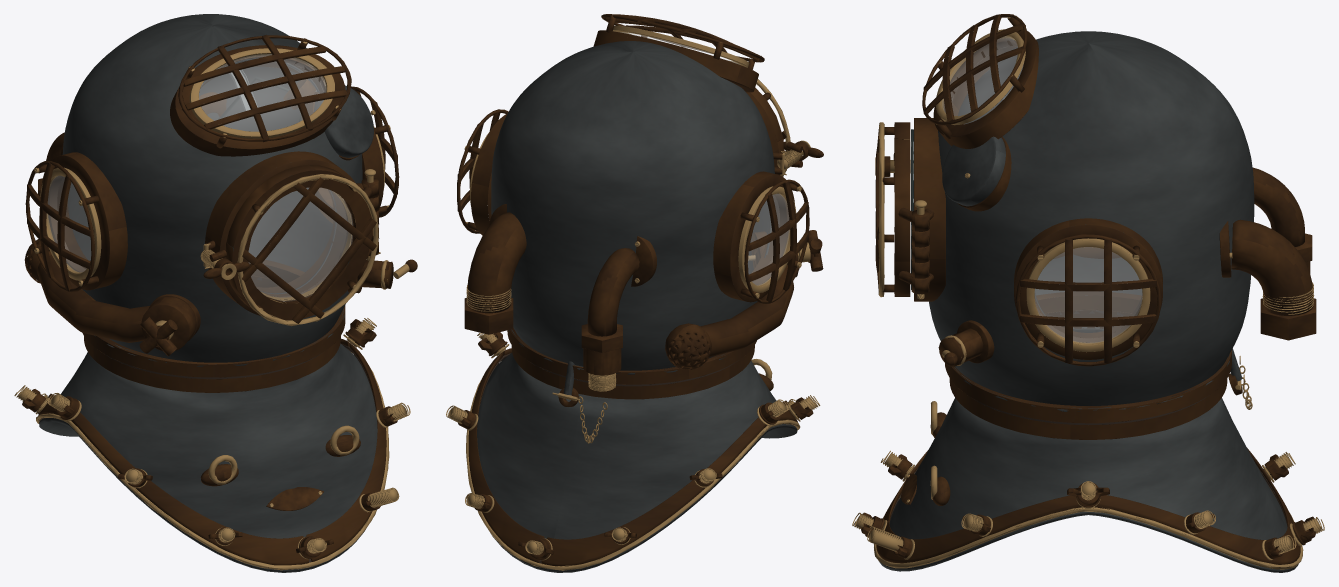
File: mark-v-context.glb
The picture shows the model from 3 angles, left to right: view 1: azimuth 30°, elevation 25°; view 2: azimuth 150°, elevation 25°; view 3: azimuth 270°, elevation 25°; orthographic projection. The views are drawn at different scales.
Parts seen in each view (by area): view 1: Bonnet_HollowCopper_TinFinish, Corselet_CopperSaddle_WithUnderside, FrontGlass_12point7mm_SpecimenApproximation, Door_CastFrame, FrontSeat_CastFrame, SideSeat_-1, TopGlass, UpperNeckRing_Female_Approximate, TopSeat, Brail_03_CurvedClampingStrap, LowerNeckRing_NominalOpening, BananaExhaust_Hollow_SectionApproximate (+27 smaller); view 2: Bonnet_HollowCopper_TinFinish, Corselet_CopperSaddle_WithUnderside, SideSeat_-1, TelephoneGooseneck_HollowCast, Brail_02_CurvedClampingStrap, BananaExhaust_Hollow_SectionApproximate, LowerNeckRing_NominalOpening, UpperNeckRing_Female_Approximate, AirGooseneck_HollowCast, Brail_01_CurvedClampingStrap, Corselet_RolledOuterEdge, TopSeat (+19 smaller); view 3: Bonnet_HollowCopper_TinFinish, Corselet_CopperSaddle_WithUnderside, UpperNeckRing_Female_Approximate, SideGlass_1, SideSeat_1, TelephoneGooseneck_HollowCast, LowerNeckRing_NominalOpening, TopSeat, FrontSeat_CastFrame, TelephoneCup_ClosedOuterCover, Brail_01_CurvedClampingStrap, Brail_04_CurvedClampingStrap (+22 smaller).
Part boxes in pixels (bbox=[...]): Bonnet_HollowCopper_TinFinish: bbox=[62, 14, 362, 362]; Corselet_CopperSaddle_WithUnderside: bbox=[39, 343, 377, 572]; FrontGlass_12point7mm_SpecimenApproximation: bbox=[248, 188, 352, 301]; Door_CastFrame: bbox=[225, 164, 372, 320]; FrontSeat_CastFrame: bbox=[205, 151, 355, 315]; SideSeat_-1: bbox=[41, 152, 127, 290]; TopGlass: bbox=[199, 54, 326, 131]; UpperNeckRing_Female_Approximate: bbox=[82, 259, 345, 377]; TopSeat: bbox=[170, 45, 345, 156]; Brail_03_CurvedClampingStrap: bbox=[71, 412, 308, 565]; LowerNeckRing_NominalOpening: bbox=[84, 275, 340, 392]; BananaExhaust_Hollow_SectionApproximate: bbox=[37, 255, 167, 342]; Bonnet_HollowCopper_TinFinish: bbox=[491, 41, 774, 370]; Corselet_CopperSaddle_WithUnderside: bbox=[477, 352, 797, 572]; SideSeat_-1: bbox=[713, 171, 794, 302]; TelephoneGooseneck_HollowCast: bbox=[467, 212, 526, 313]; Brail_02_CurvedClampingStrap: bbox=[541, 417, 766, 566]; BananaExhaust_Hollow_SectionApproximate: bbox=[682, 251, 793, 357]; LowerNeckRing_NominalOpening: bbox=[511, 345, 754, 399]; UpperNeckRing_Female_Approximate: bbox=[507, 328, 756, 384]; AirGooseneck_HollowCast: bbox=[587, 248, 639, 336]; Brail_01_CurvedClampingStrap: bbox=[468, 352, 544, 562]; Corselet_RolledOuterEdge: bbox=[466, 361, 800, 570]; TopSeat: bbox=[593, 30, 758, 92]; Bonnet_HollowCopper_TinFinish: bbox=[929, 31, 1254, 405]; Corselet_CopperSaddle_WithUnderside: bbox=[879, 327, 1298, 572]; UpperNeckRing_Female_Approximate: bbox=[945, 291, 1231, 423]; SideGlass_1: bbox=[1034, 247, 1142, 343]; SideSeat_1: bbox=[1014, 218, 1162, 359]; TelephoneGooseneck_HollowCast: bbox=[1231, 219, 1313, 315]; LowerNeckRing_NominalOpening: bbox=[949, 309, 1227, 439]; TopSeat: bbox=[933, 29, 1038, 148]; FrontSeat_CastFrame: bbox=[914, 118, 945, 301]; TelephoneCup_ClosedOuterCover: bbox=[942, 136, 1005, 206]; Brail_01_CurvedClampingStrap: bbox=[1093, 495, 1300, 567]; Brail_04_CurvedClampingStrap: bbox=[876, 495, 1082, 563].
Size of the model in its own units: 0.3553 by 0.5017 by 0.4113.
Materials: 8 (2 with a texture image).
